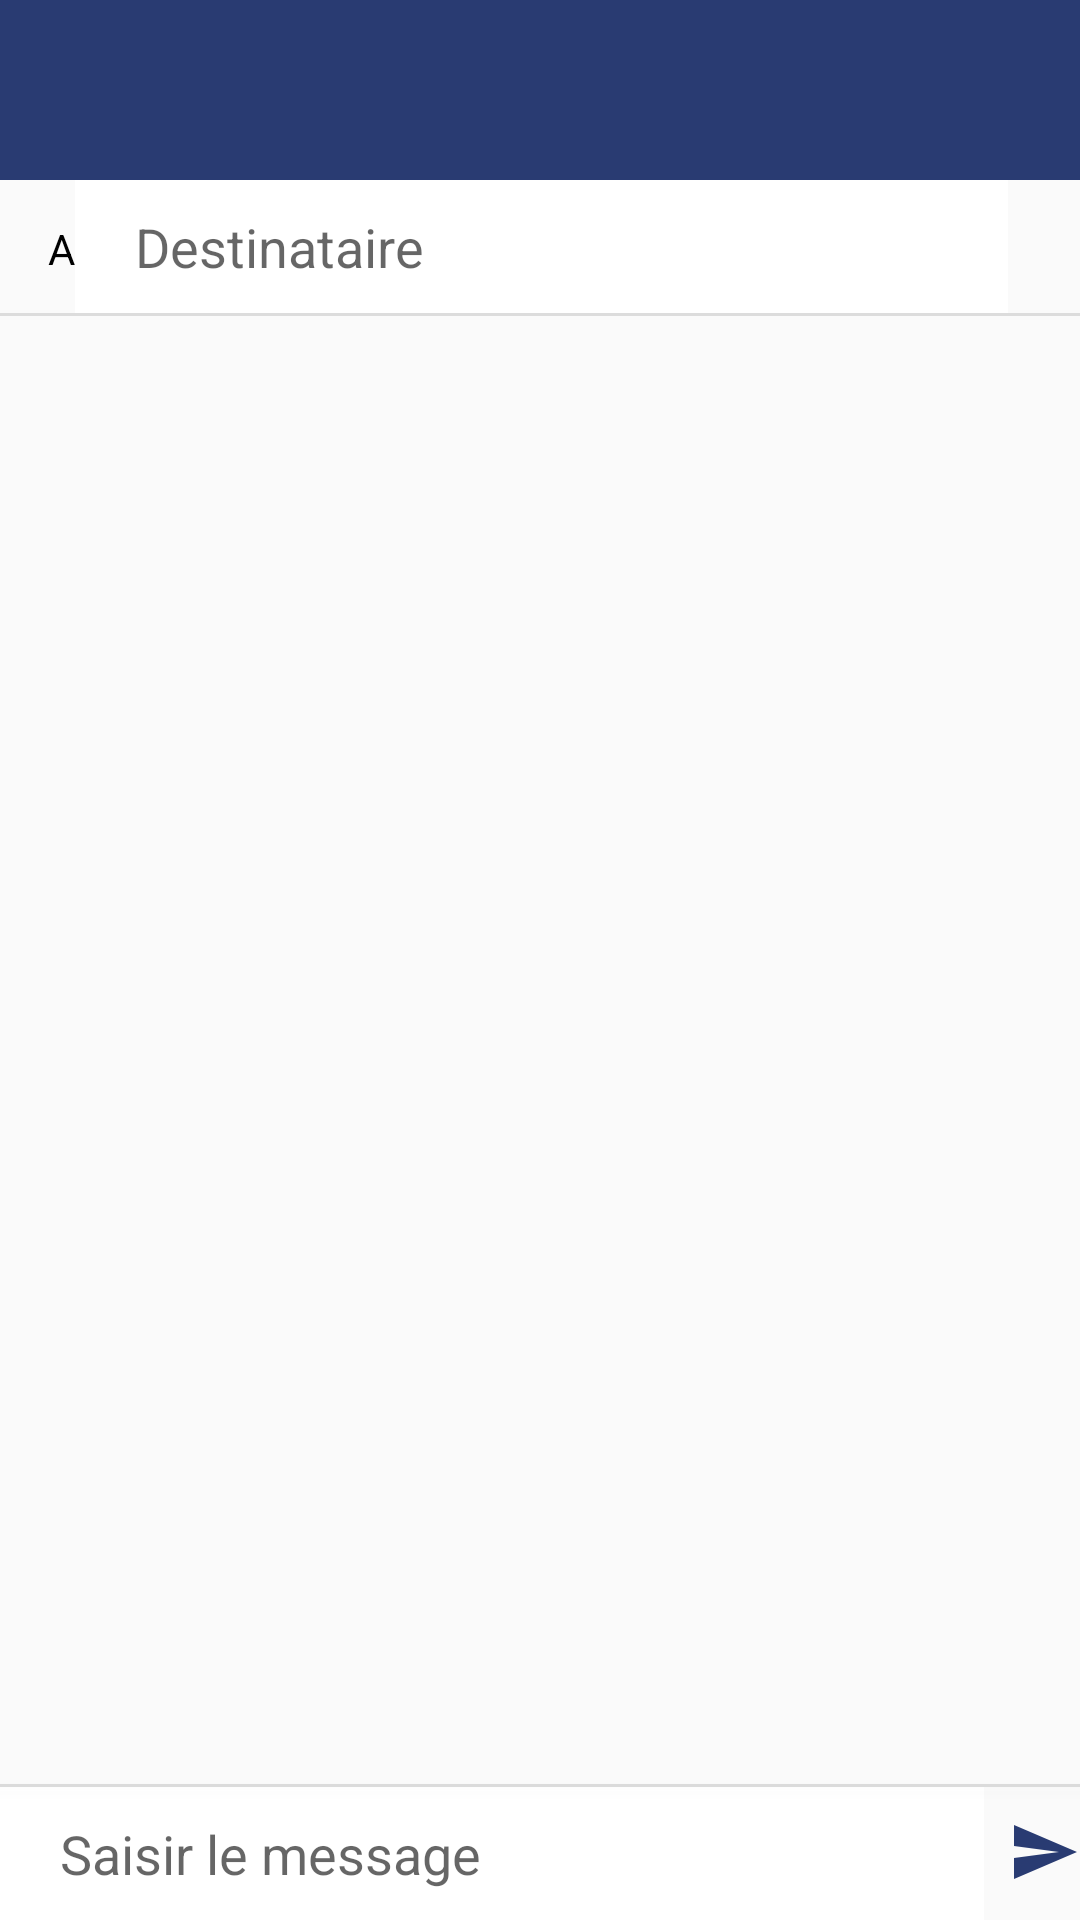

Icon click points for this 1080 x 1920 phone screenshot, format (x=x, y=y):
send: (x=1045, y=1852)
